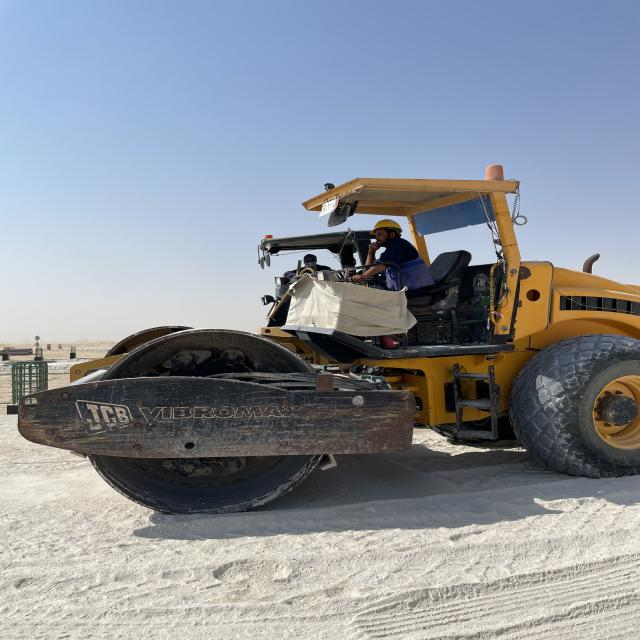Roller: (14, 158, 636, 518)
